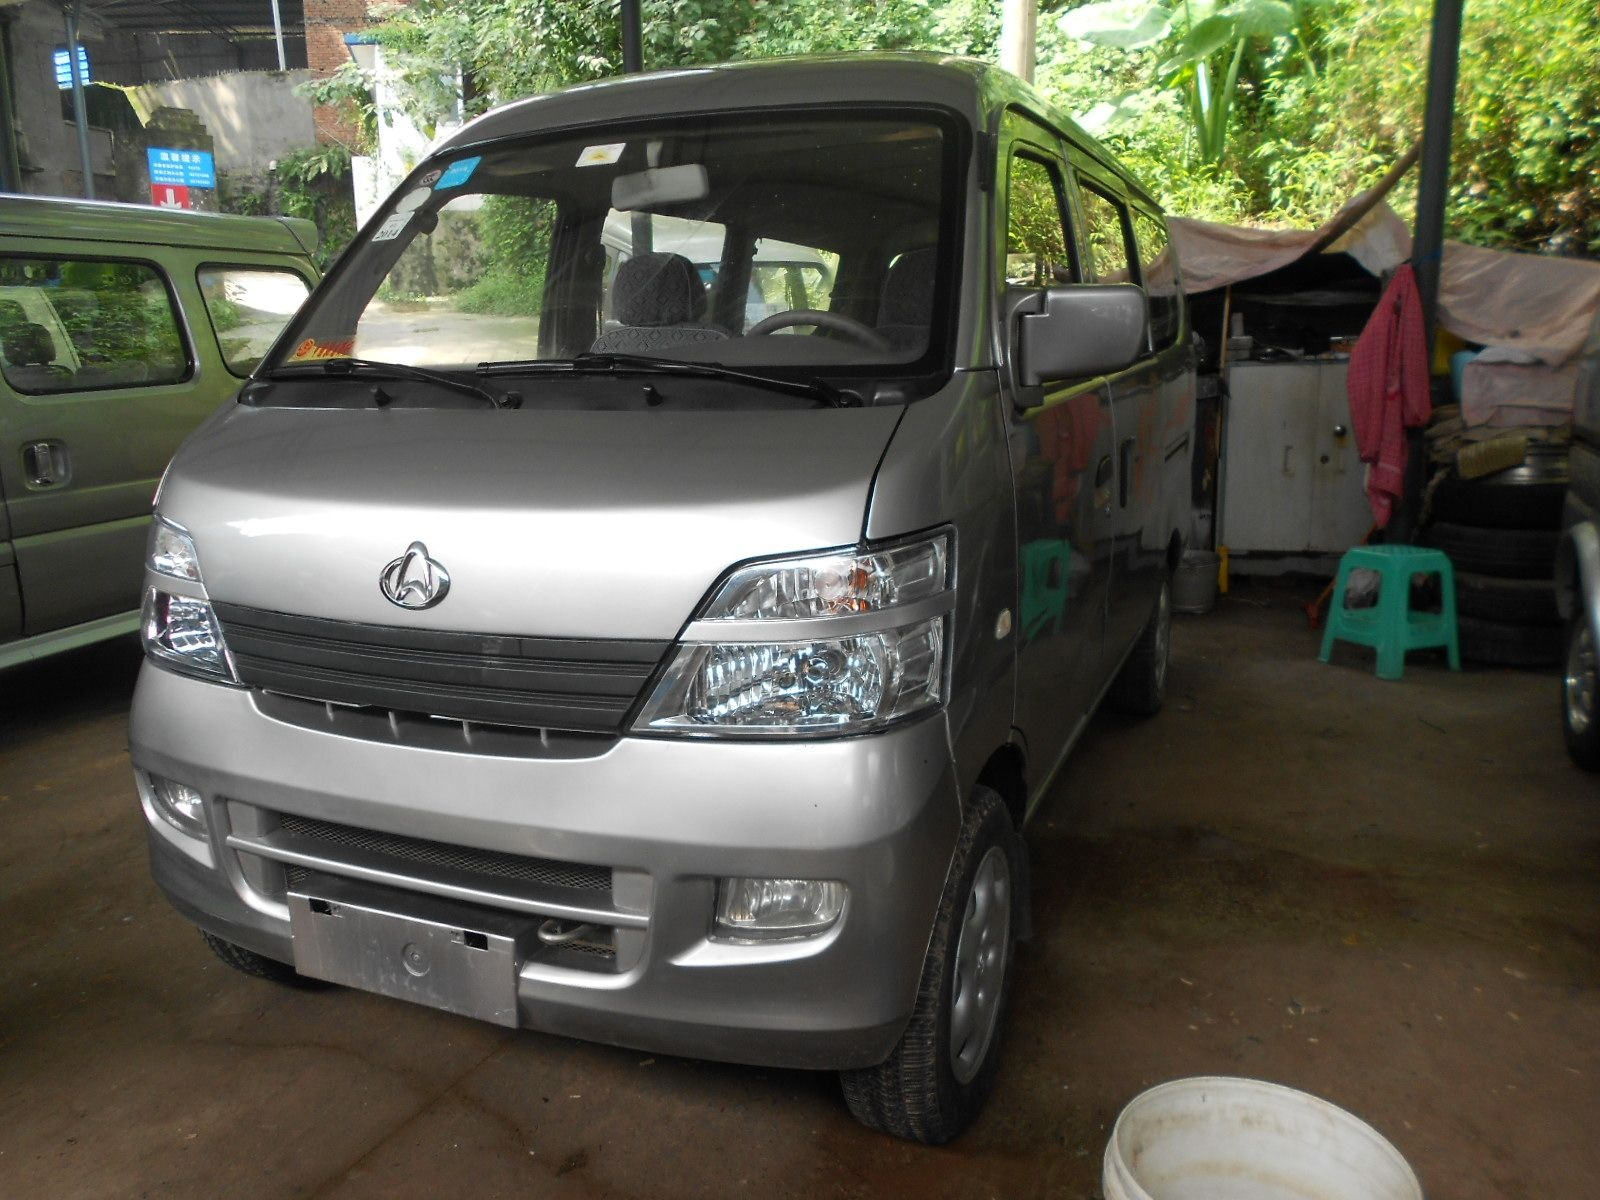minibus: (146, 112, 1232, 1124)
